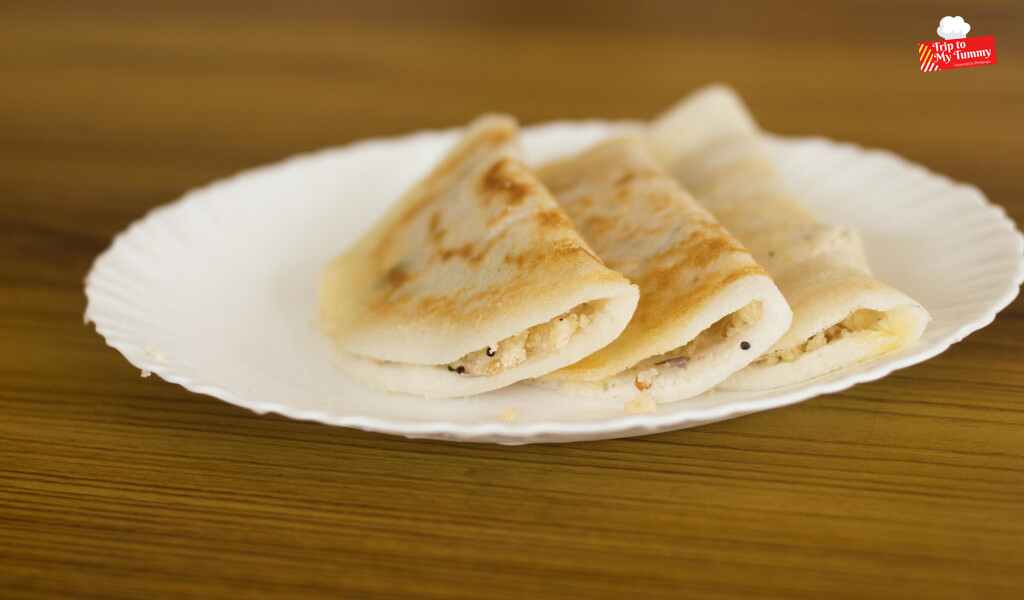dosa: (310, 89, 932, 403)
